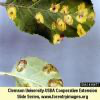Apple rust leaf: (0, 1, 98, 49), (7, 54, 66, 87)
